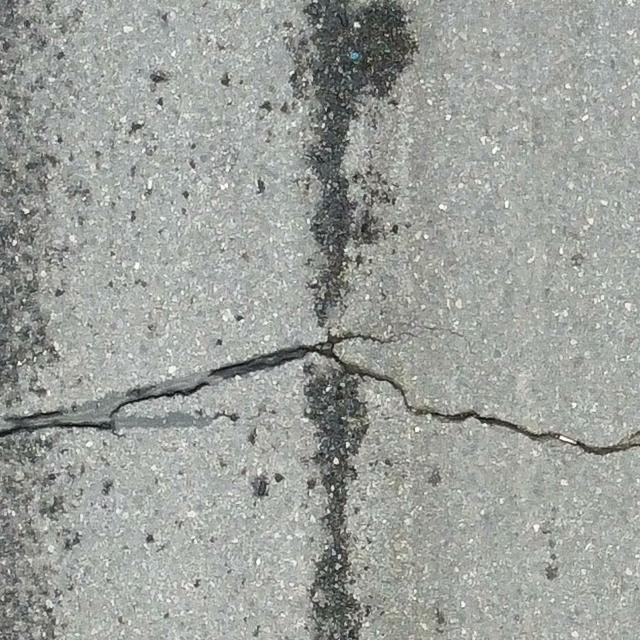TransverseCrack: (1, 333, 640, 458)
